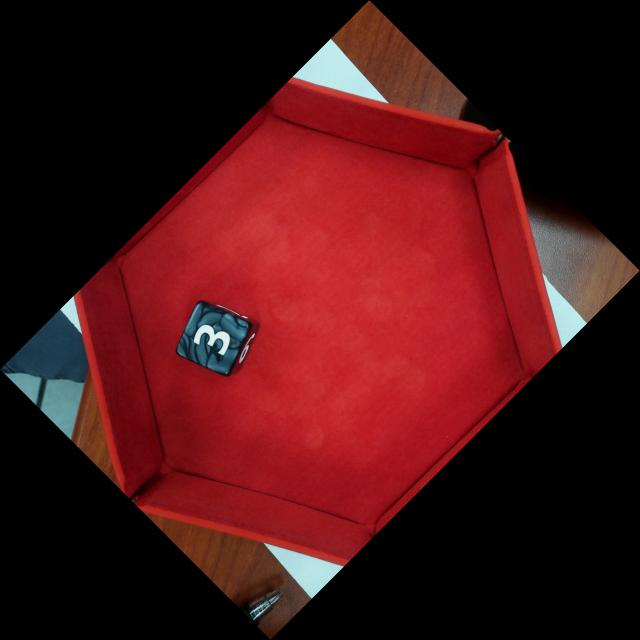dice: (176, 301, 251, 377)
